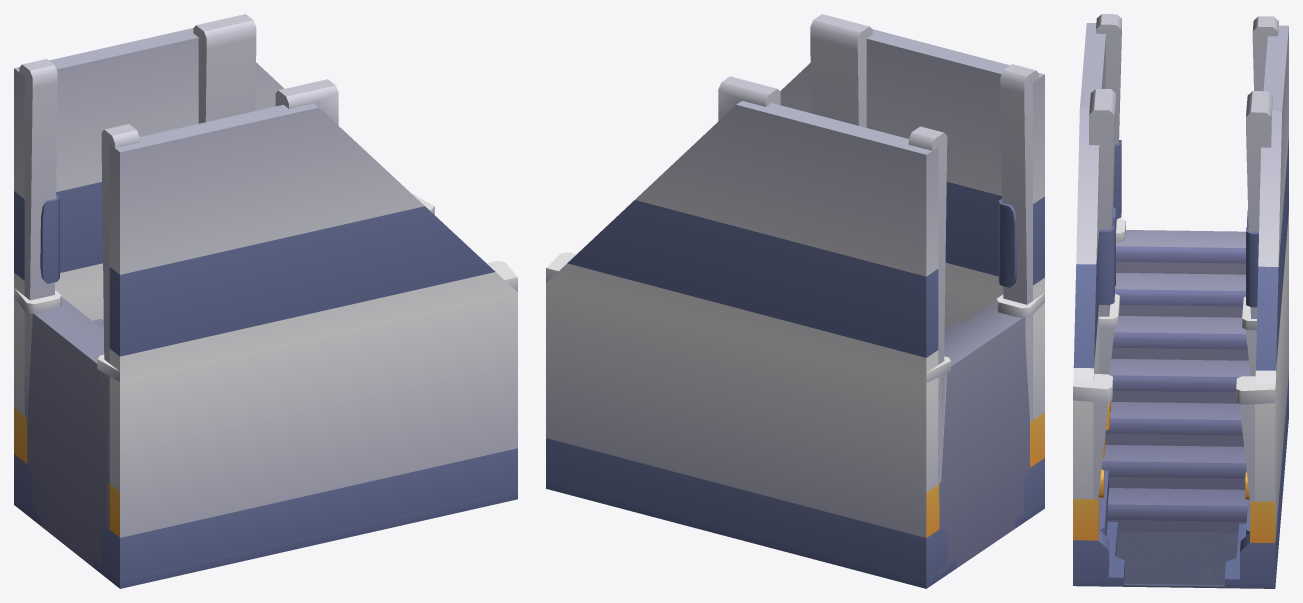
Rendered from stairs_lev4.glb.
3 renders of one model, left to right at view 1: azimuth 30°, elevation 25°; view 2: azimuth 150°, elevation 25°; view 3: azimuth 270°, elevation 25°, orthographic. The views are drawn at different scales.
Visible parts, largest first — view 1: stairs_lev4; view 2: stairs_lev4; view 3: stairs_lev4.
Boxes of the visible parts, <box> form: stairs_lev4: <box>14,14,517,588</box>; stairs_lev4: <box>546,14,1044,588</box>; stairs_lev4: <box>1073,14,1288,588</box>.
Bounding box in the file's own units: 8.29 × 8.75 × 4.27.
1 material, 1 textured.
